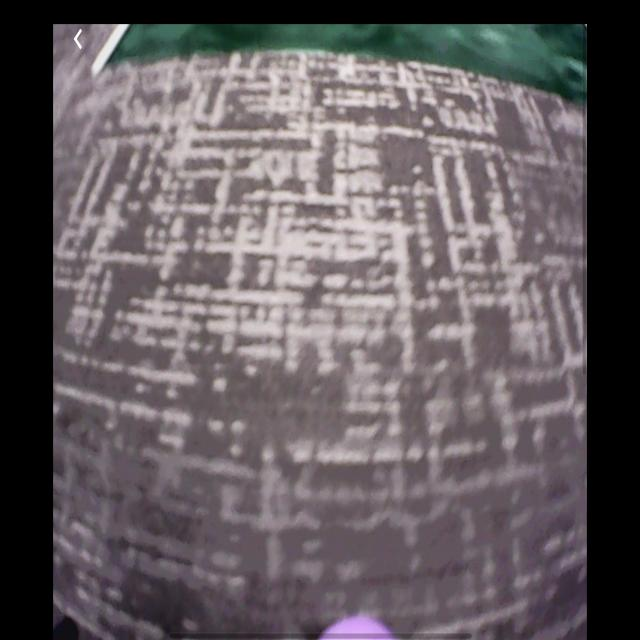ball: (319, 609, 394, 640)
